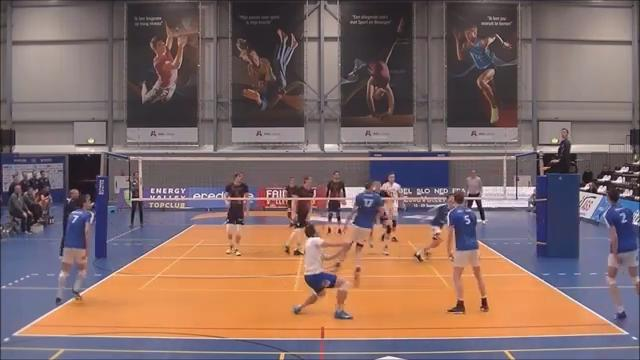Player: (445, 191, 488, 313), (604, 189, 639, 319), (55, 195, 93, 304), (344, 183, 382, 286), (414, 195, 453, 261), (285, 176, 314, 255), (225, 173, 249, 255), (381, 173, 403, 241), (326, 171, 345, 233), (378, 206, 391, 254), (287, 200, 294, 227)
Receive: (290, 223, 358, 320)
